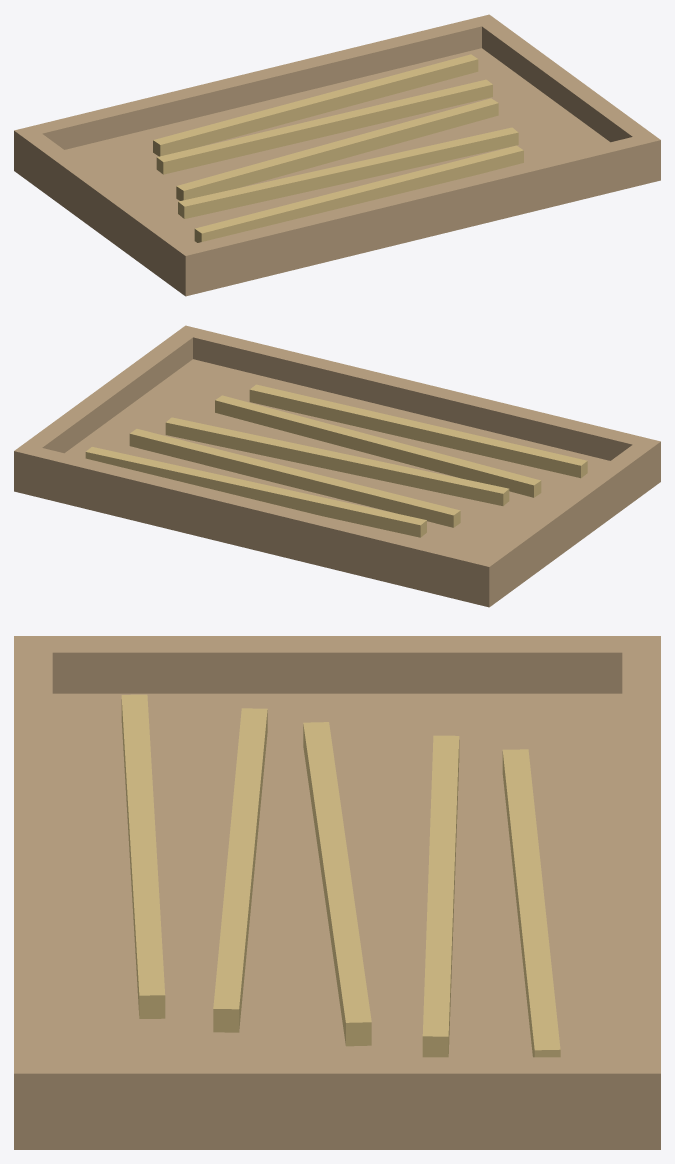
File: prop-pin-blank-tray.fbx
3 views of the same model, one above another, from view 1: azimuth 30°, elevation 25°; view 2: azimuth 150°, elevation 25°; view 3: azimuth 270°, elevation 25° (orthographic). The views are drawn at different scales.
Parts seen in each view (by area): view 1: prop-pin-blank-tray; view 2: prop-pin-blank-tray; view 3: prop-pin-blank-tray.
Boxes of the visible parts, <box> form: prop-pin-blank-tray: <box>14,14,660,296</box>; prop-pin-blank-tray: <box>14,325,660,607</box>; prop-pin-blank-tray: <box>14,636,660,1149</box>.
Bounding box in the file's own units: 16 × 1.3 × 10.
